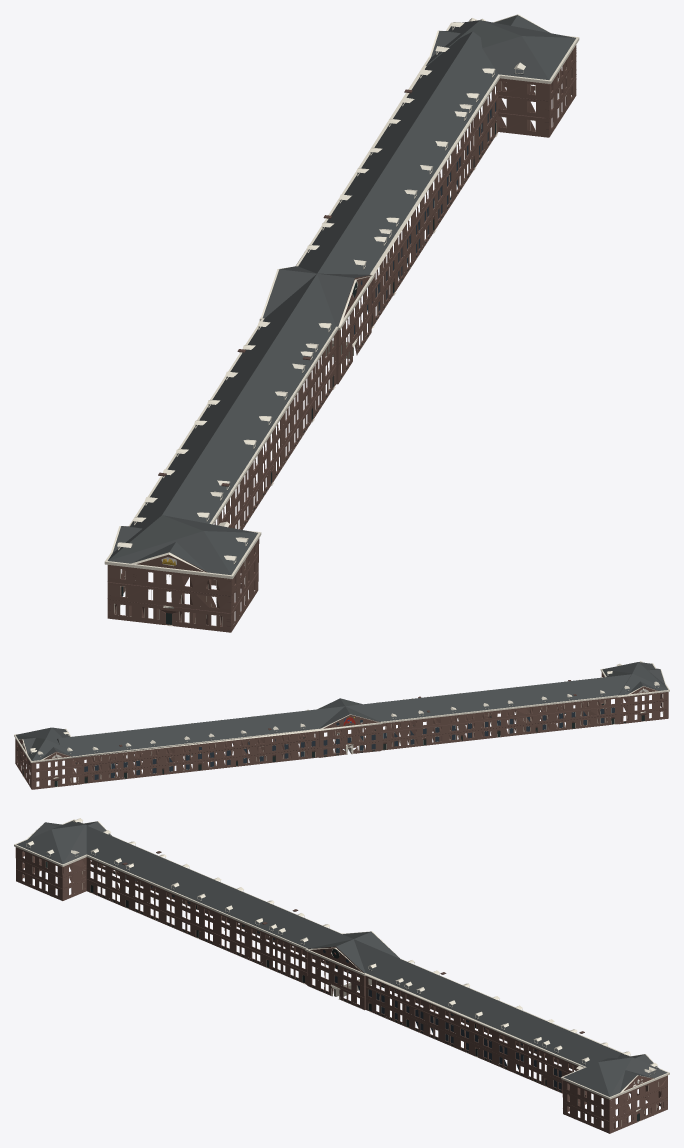
The model's file is oranje-nassau-kazerne.lod1.glb.
3 renders of one model, top to bottom at view 1: azimuth 30°, elevation 25°; view 2: azimuth 150°, elevation 25°; view 3: azimuth 270°, elevation 25°, orthographic. The views are drawn at different scales.
Visible parts, largest first — view 1: oranje-nassau-kazerne; view 2: oranje-nassau-kazerne; view 3: oranje-nassau-kazerne.
Boxes of the visible parts, x1,y1,x2,y2 form: oranje-nassau-kazerne: (104,14,579,632); oranje-nassau-kazerne: (14,661,669,789); oranje-nassau-kazerne: (14,818,669,1133).
Size of the model in its own units: 219 by 19.09 by 218.
